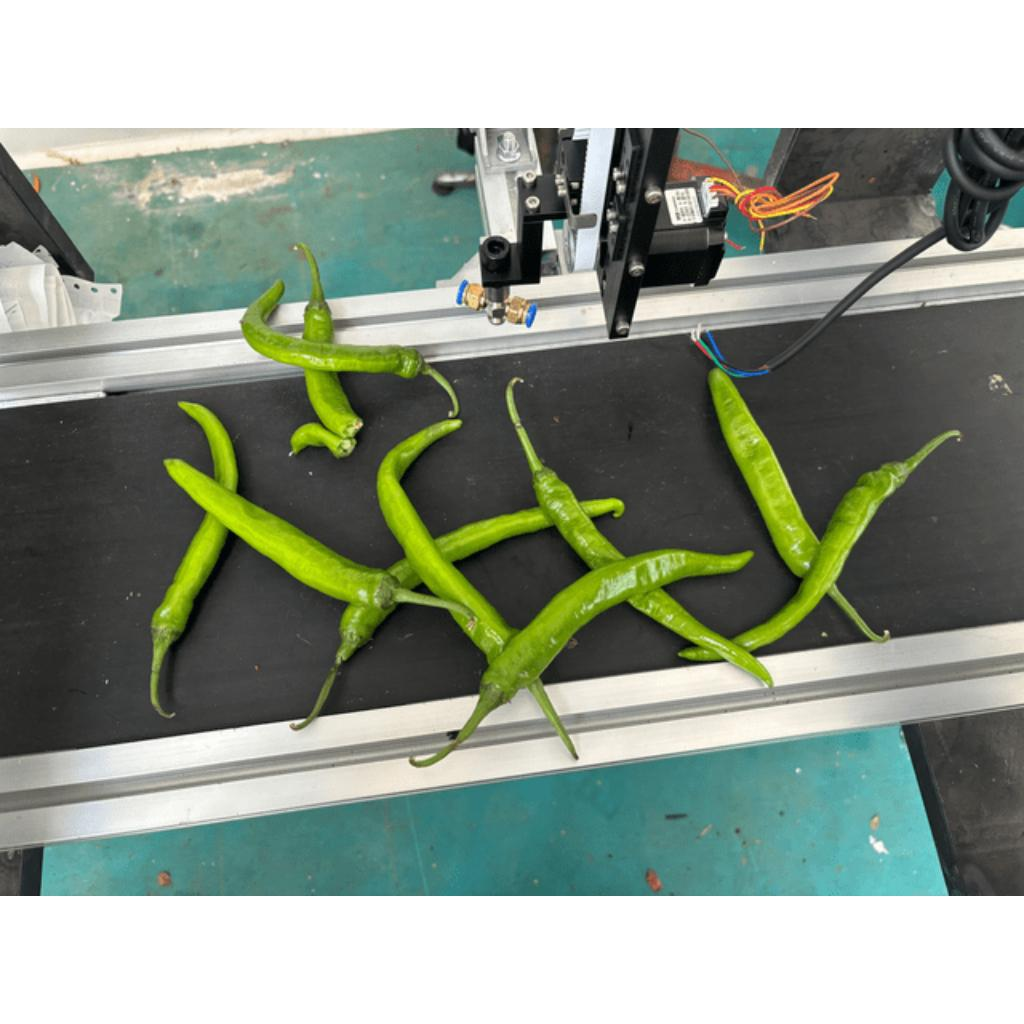chili: (531, 467, 777, 700), (672, 462, 917, 660), (337, 496, 629, 653), (477, 546, 757, 706), (373, 416, 538, 680), (159, 455, 398, 607), (705, 365, 830, 584), (148, 397, 243, 650), (238, 275, 426, 378), (288, 296, 365, 457)
